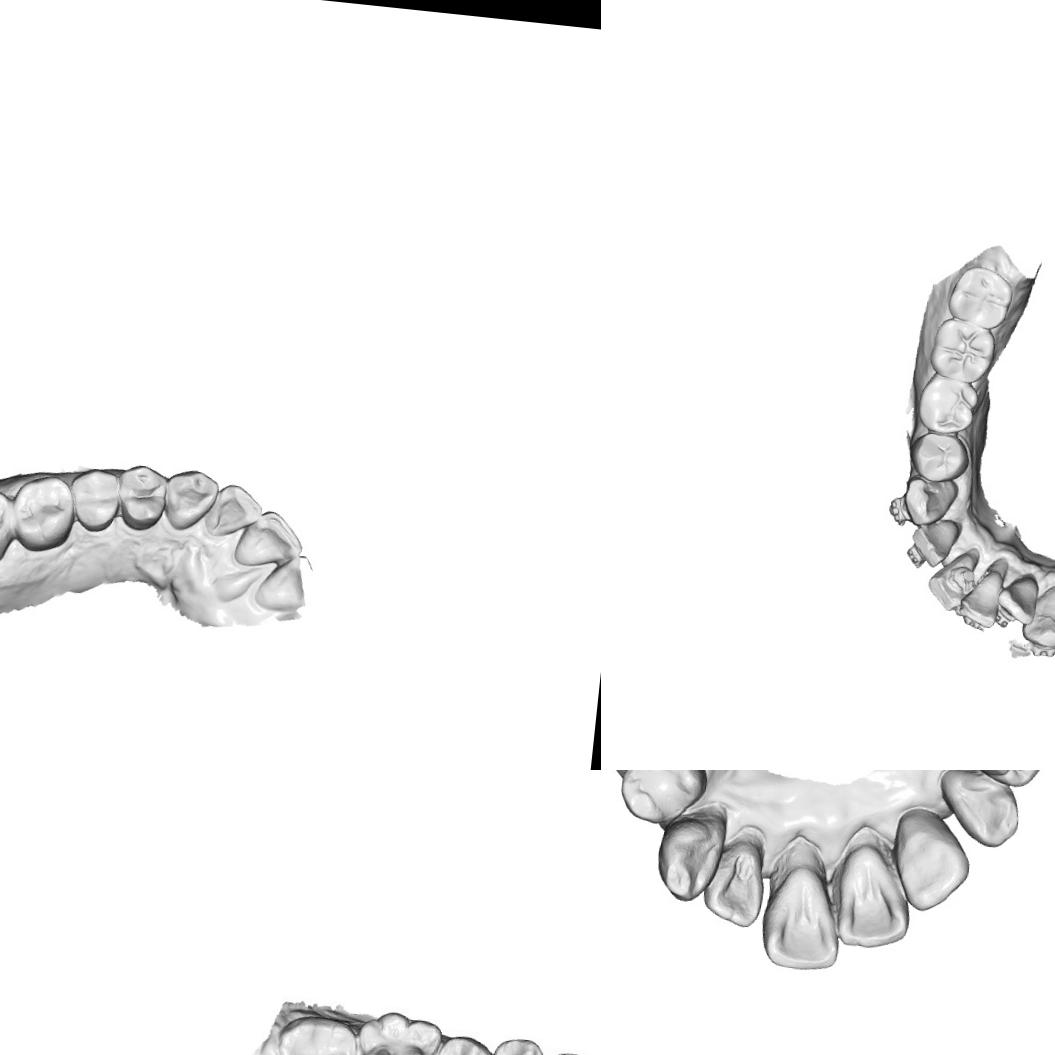canine: (936, 770, 1024, 853), (652, 807, 725, 905), (886, 471, 960, 532), (160, 466, 221, 534), (1017, 579, 1055, 660)
incisor: (759, 866, 849, 977), (892, 812, 974, 920), (834, 849, 916, 954), (700, 840, 773, 930), (232, 505, 307, 572), (952, 552, 1012, 633), (253, 549, 318, 616), (924, 540, 982, 614), (202, 480, 266, 542), (900, 512, 964, 574), (993, 566, 1043, 626)
molar: (8, 470, 78, 556), (926, 314, 997, 385), (944, 262, 1016, 332), (355, 1006, 442, 1055), (272, 1010, 360, 1055), (0, 485, 17, 573)
premolar: (612, 770, 708, 830), (913, 371, 981, 438), (113, 460, 169, 534), (67, 465, 124, 536), (904, 430, 972, 486), (954, 770, 1053, 788), (435, 1035, 491, 1055), (492, 1035, 547, 1055)
